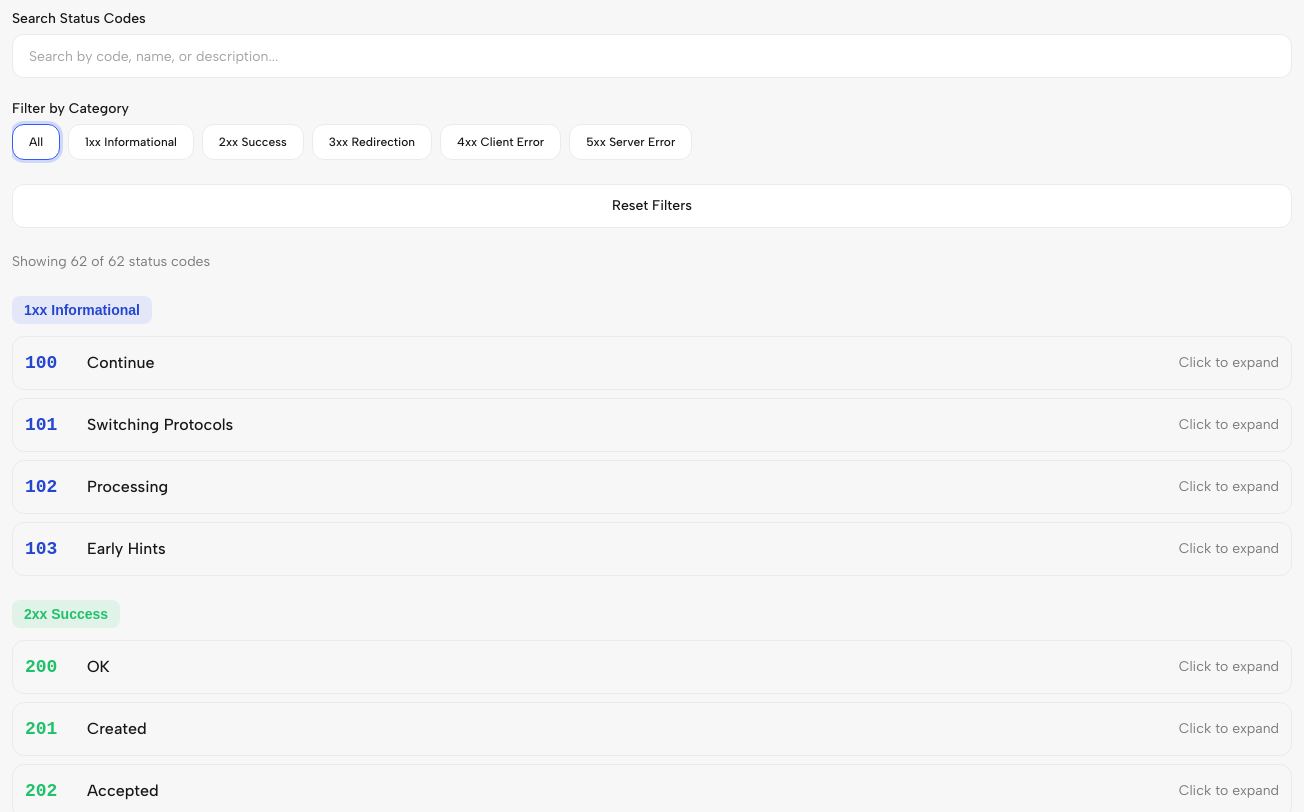
Scenario: HttpStatusTool › collapses status code details when clicked again
The image size is (1304, 812).
Click the text "200": (652, 667) [12,640,1292,694]
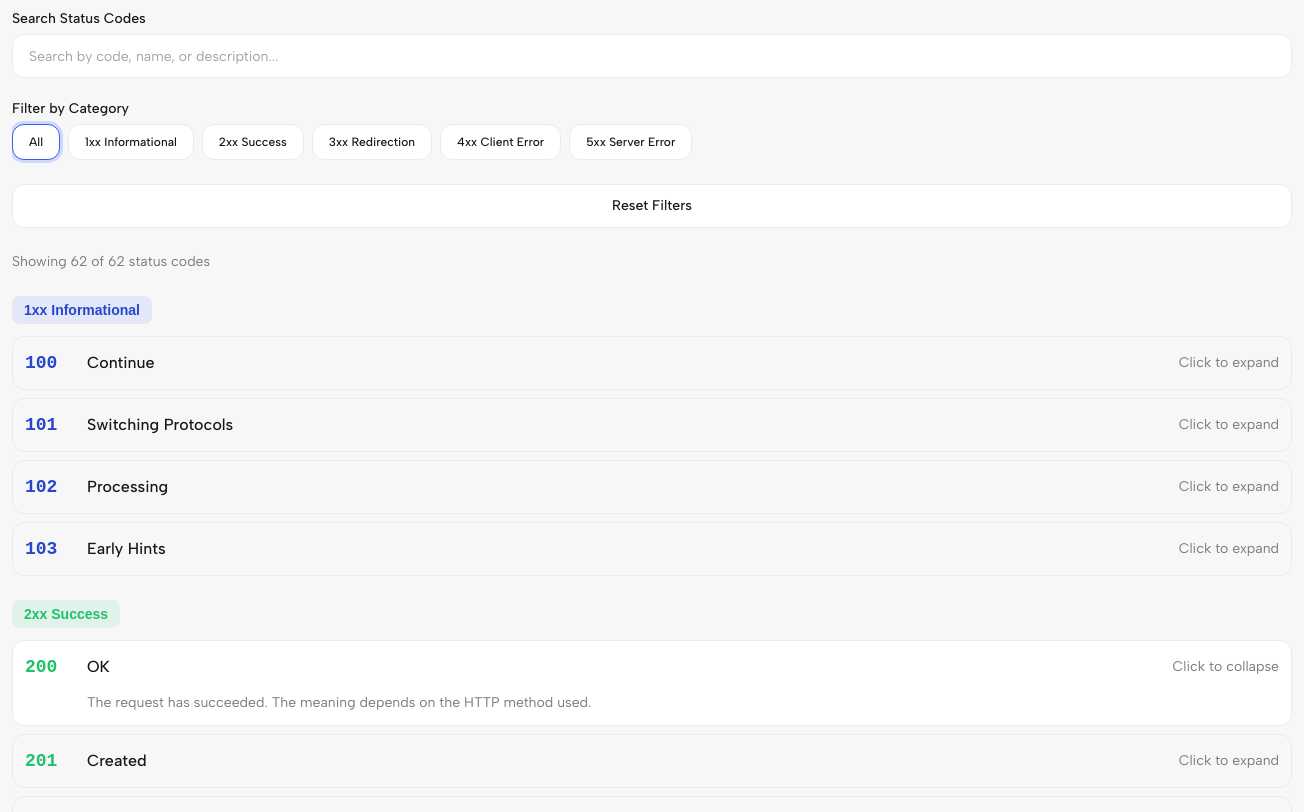
Expected: the text "The request has succeeded" is shown, [87,694,591,711]
Click the text "200": (652, 683) [12,640,1292,726]
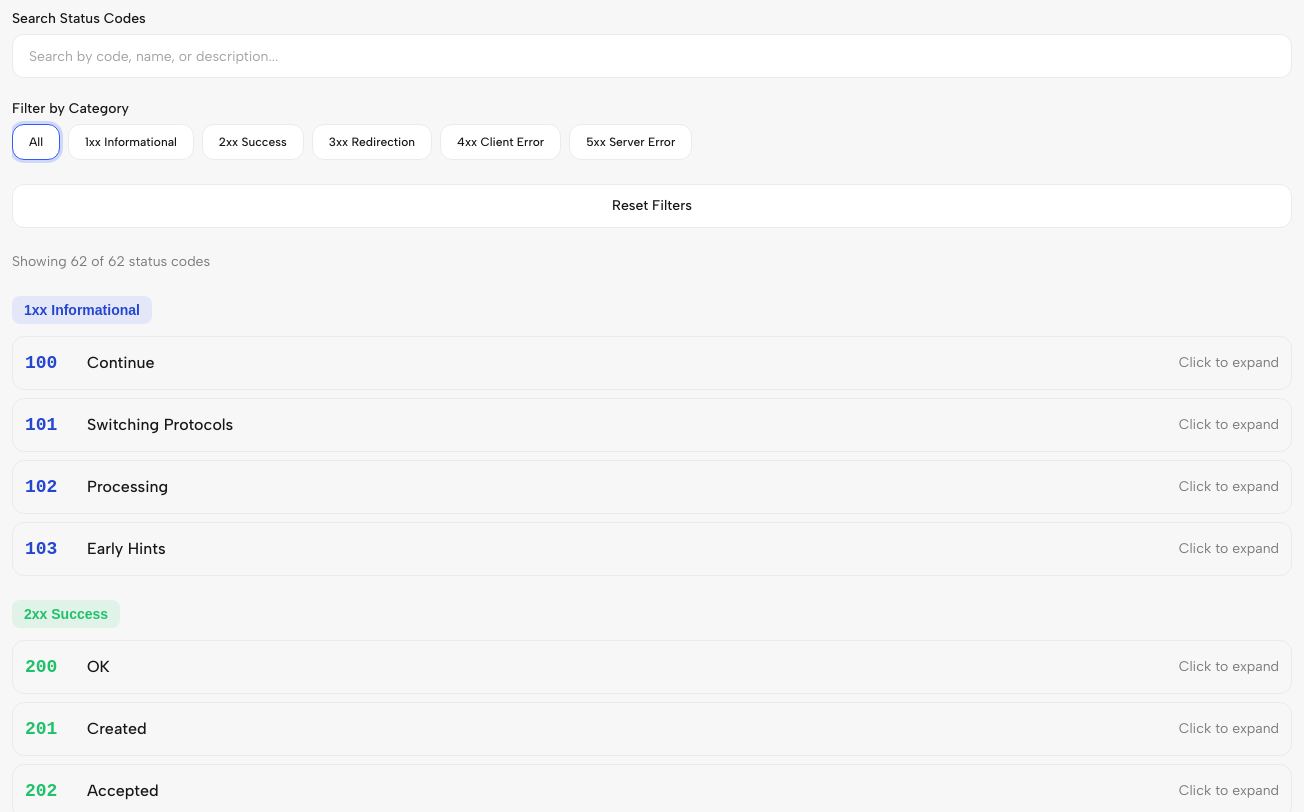
Expected: the text "The request has succeeded" is gone
